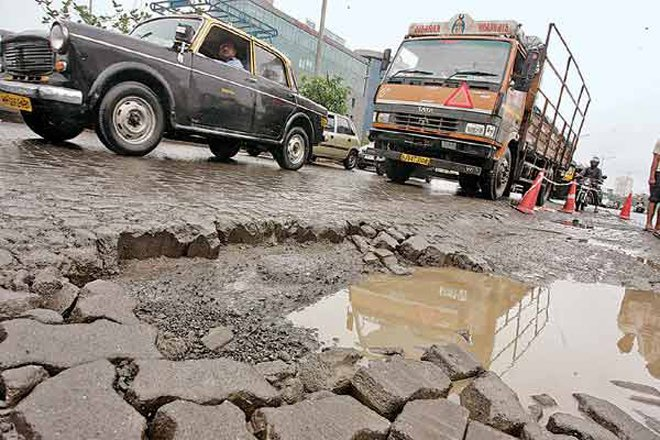pothole: (83, 187, 659, 437)
